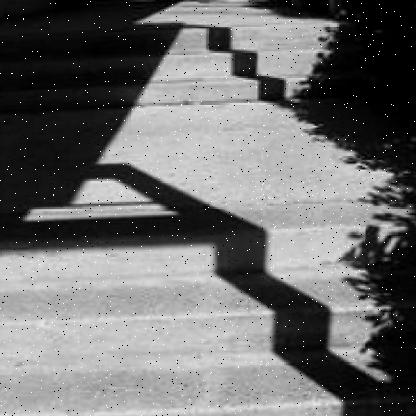stair_up: (21, 213, 362, 414)
